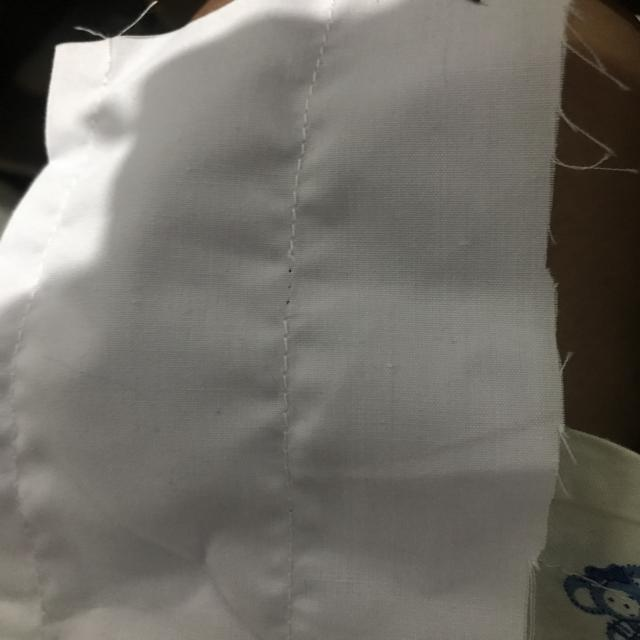broken: (276, 226, 312, 358)
